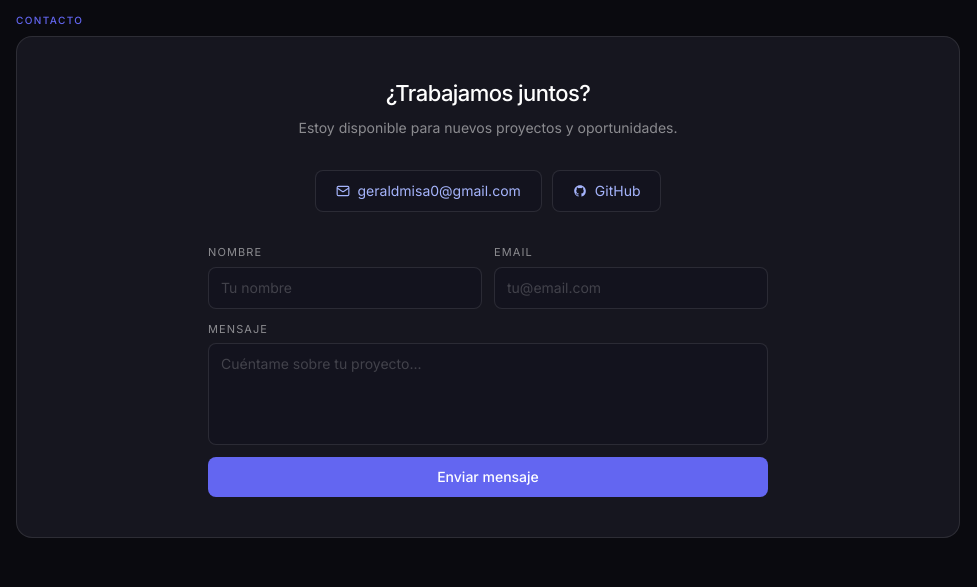
Contact › muestra error de conexión cuando el fetch falla completamente
The image size is (977, 587).
Type "Gerald Misa" into the field with placeholder "Tu nombre". click: (345, 288)
box: [208,266,482,308]
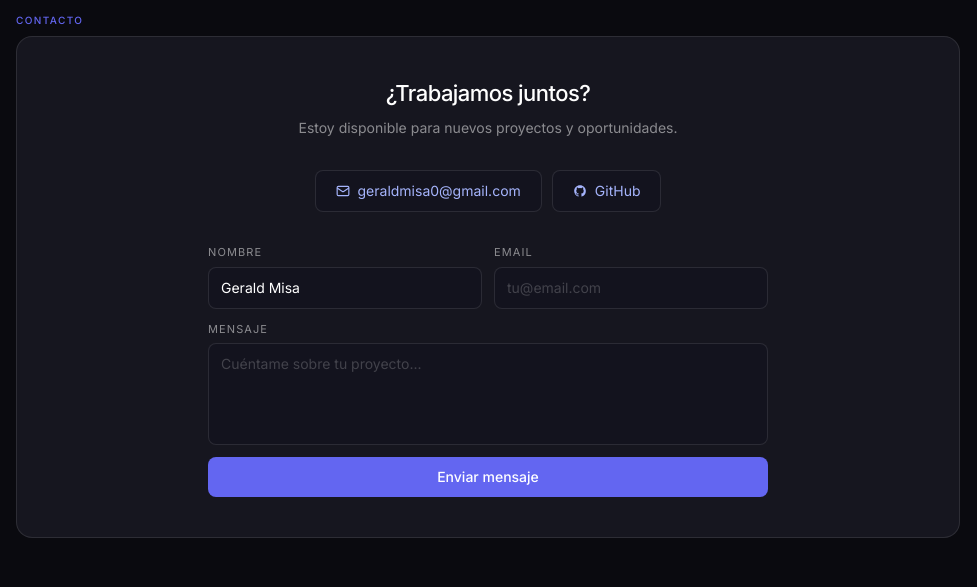
Type "gerald@test.com" into the field with placeholder "tu@email.com". click: (631, 288)
box: [494,266,768,308]
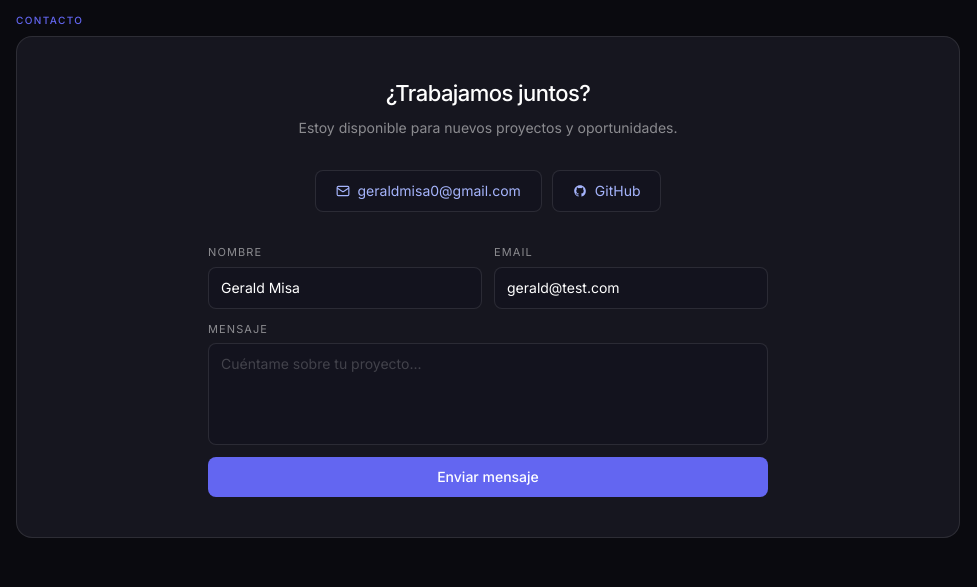
Type "Hola, me interesa trabajar contigo en un proyecto." into the text box with placeholder "Cuéntame sobre tu proyecto...". click: (488, 394)
box: [208,343,768,445]
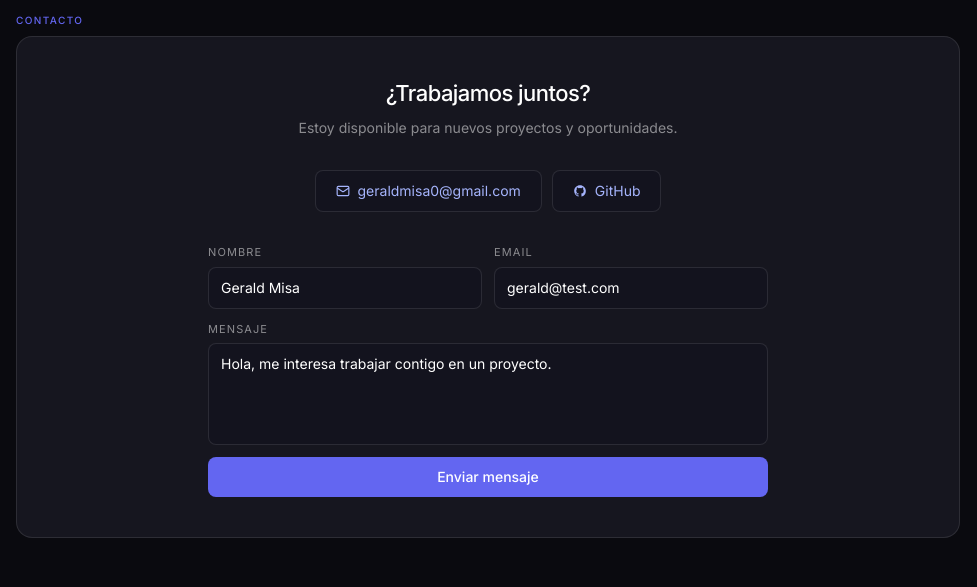
Click the button "Enviar mensaje". click: (488, 477)
box: [208,457,768,497]
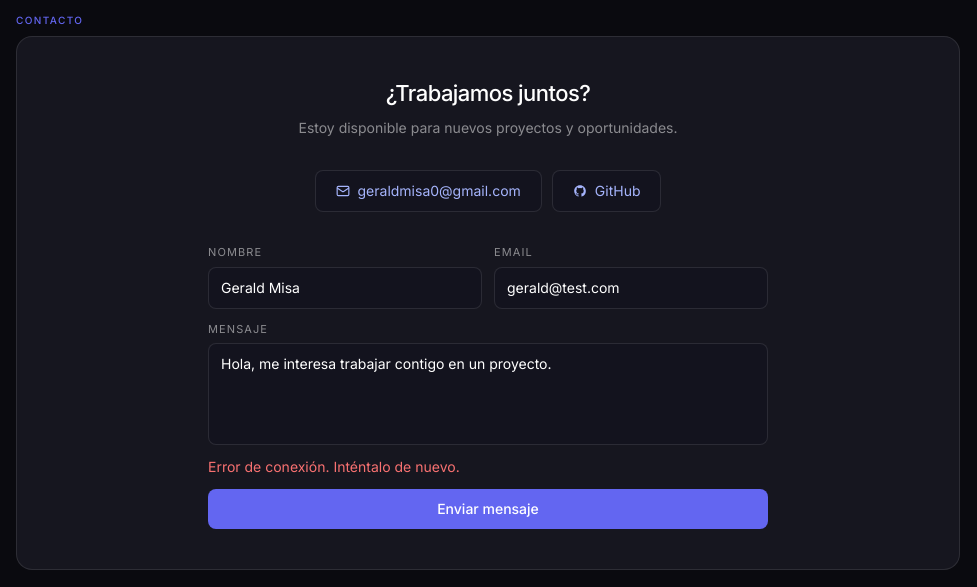
Result: the text "Error de conexión. Inténtalo de nuevo." is shown at [208,458,460,475]
